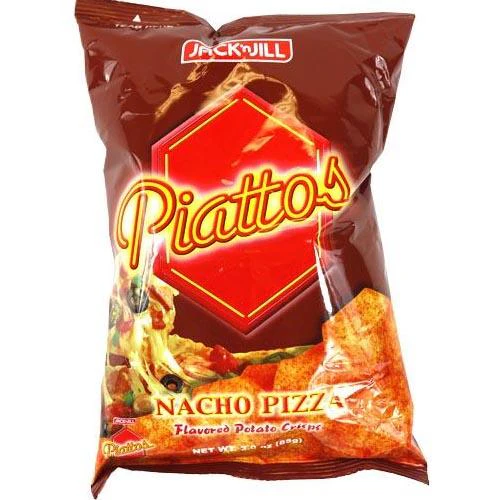non-toxic_waste: (84, 19, 433, 486)
